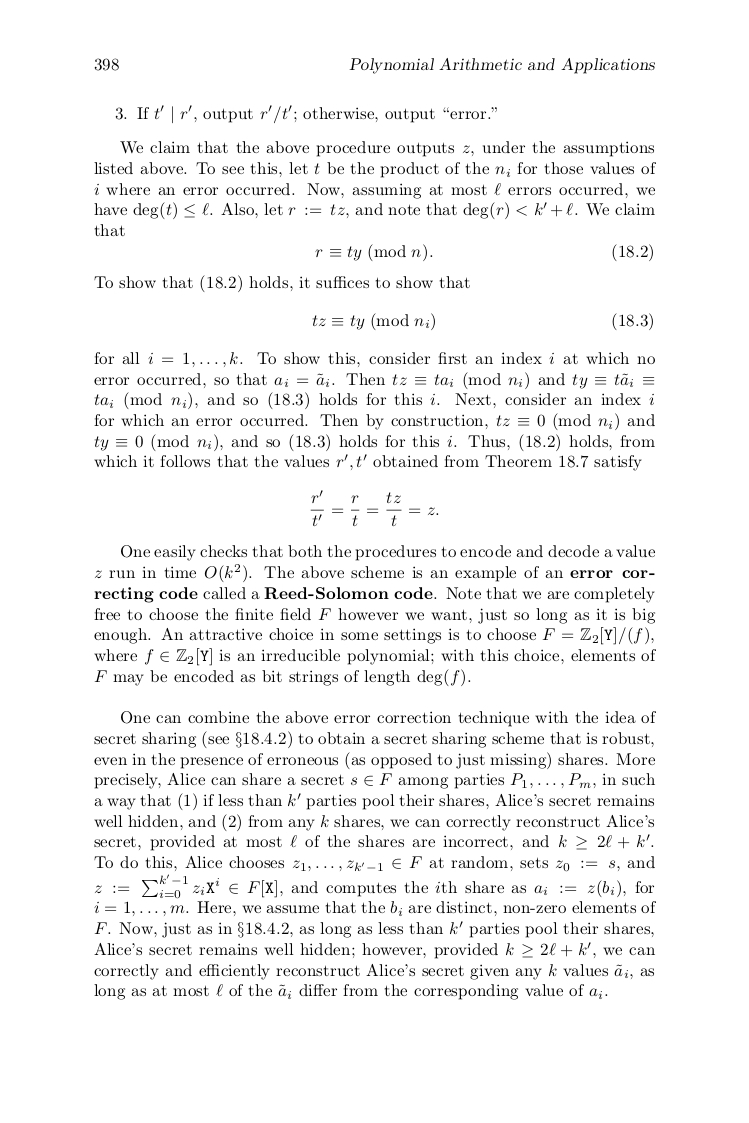formula: (312, 312, 652, 331), (315, 243, 652, 262), (310, 490, 438, 526)
